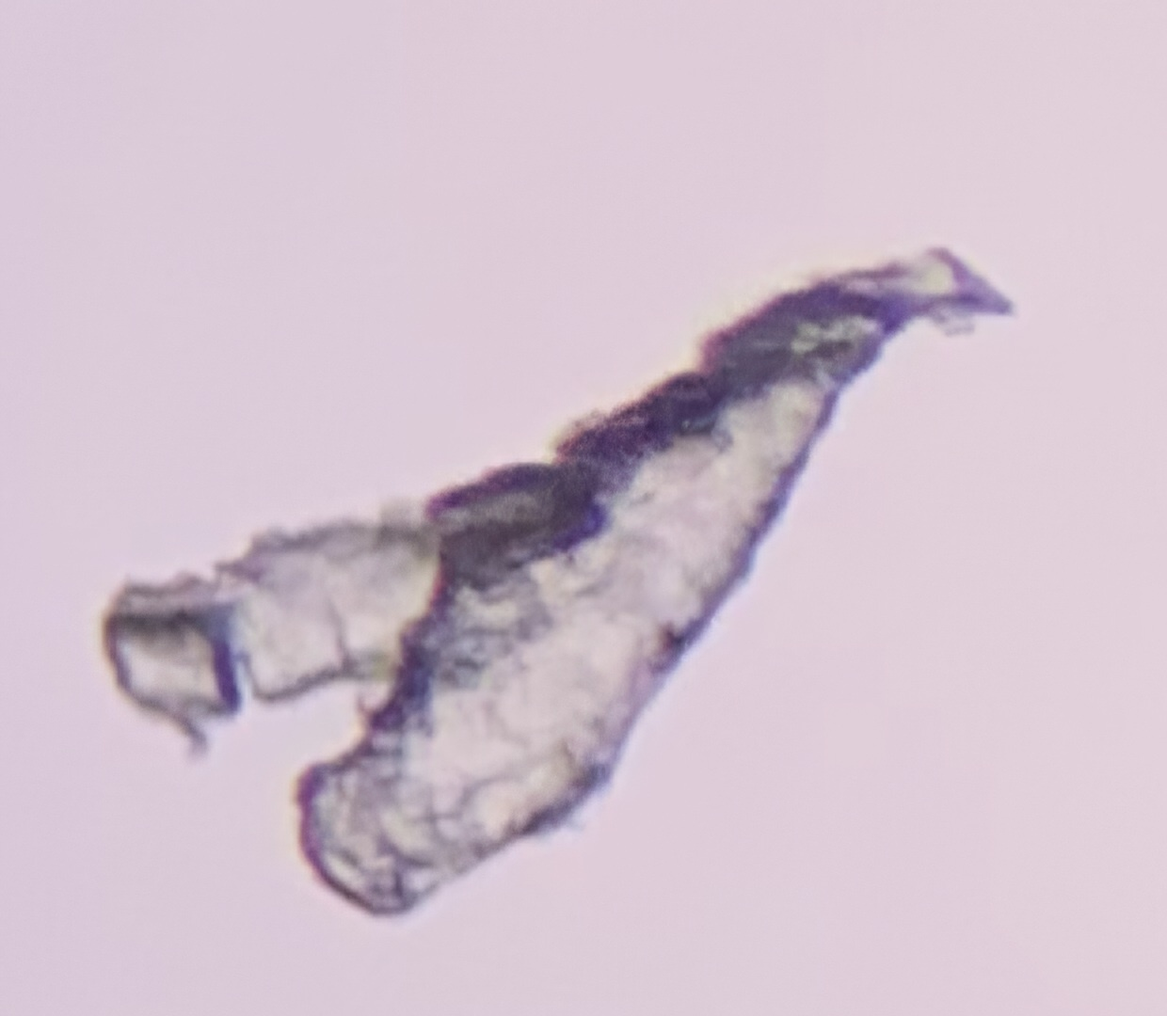microplastic: (98, 241, 1021, 927)
